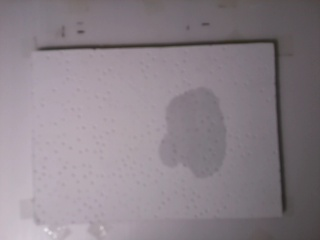Water_detected: (168, 102, 218, 168)
